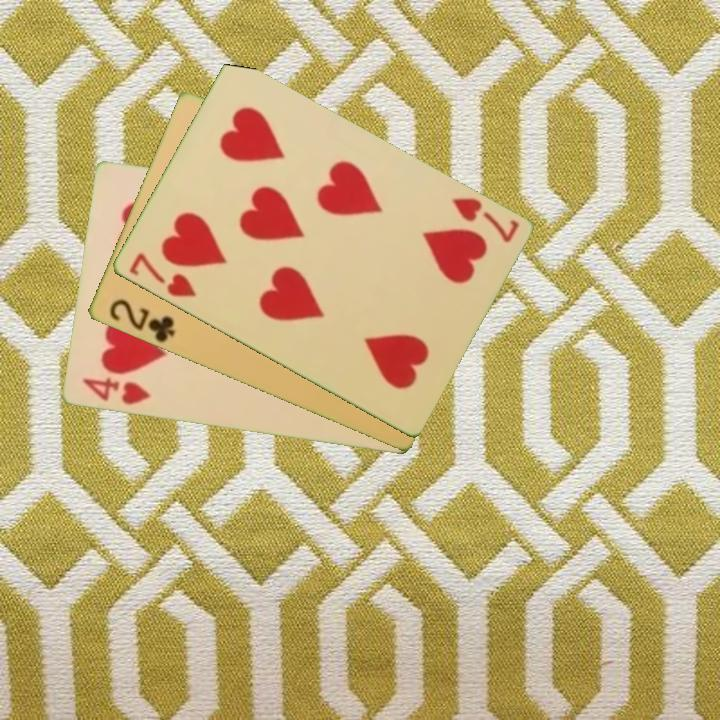2c: (105, 295, 178, 346)
4h: (78, 374, 152, 408)
7h: (447, 194, 522, 246), (124, 249, 198, 301)
